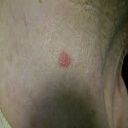Carcinoma: (56, 51, 74, 68)
